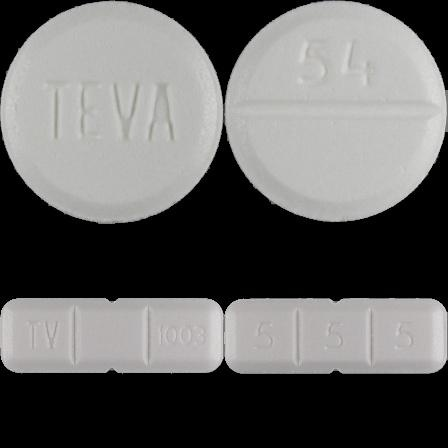33261-014: (0, 0, 224, 224)
